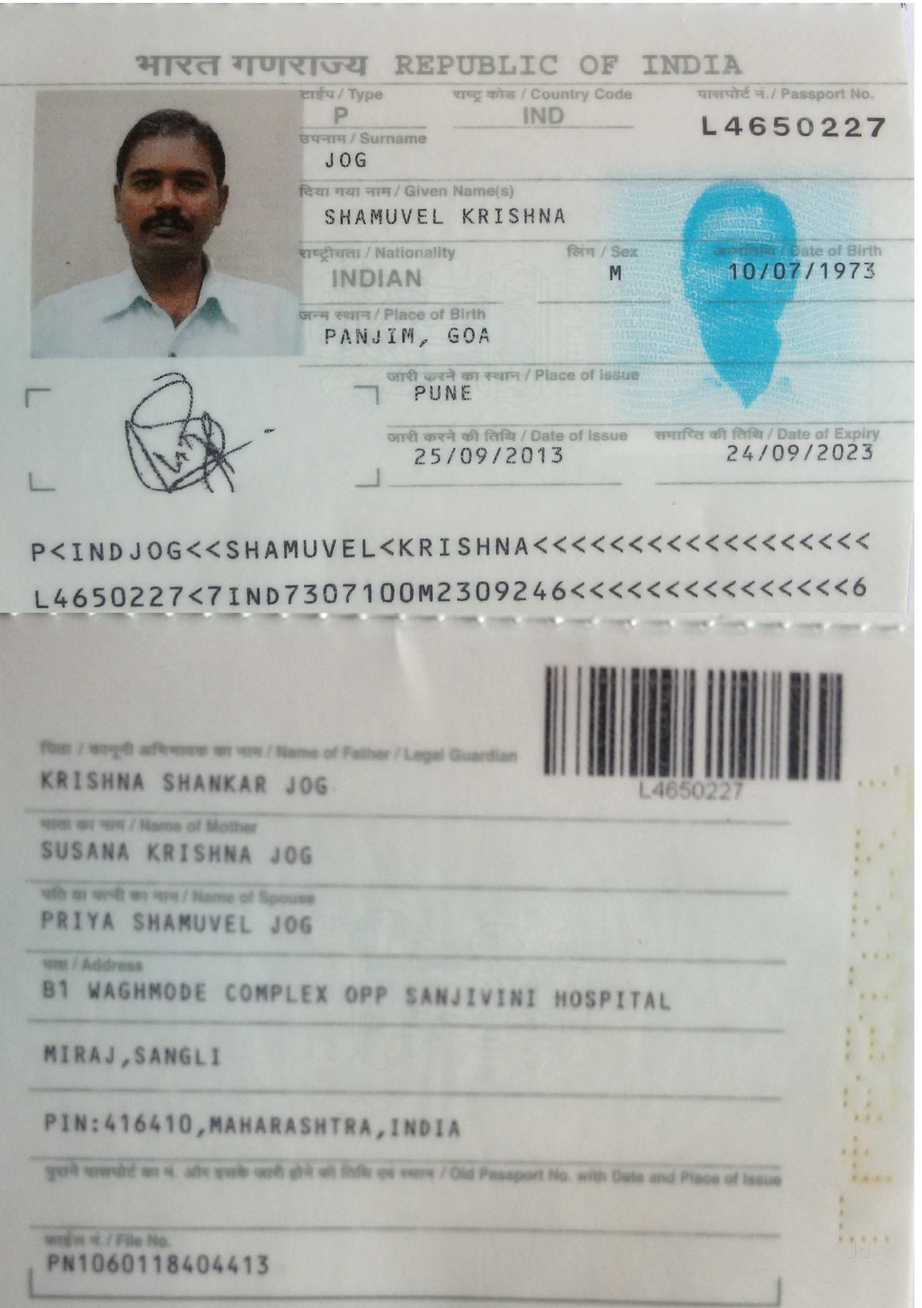File_no: (42, 1250, 289, 1296)
Surname: (318, 145, 376, 175)
address: (22, 972, 681, 1151)
country_code: (513, 99, 572, 131)
date_of_expiry: (718, 435, 891, 465)
date_of_issue: (411, 442, 579, 477)
details: (19, 527, 877, 614)
father_name: (30, 759, 334, 806)
mother_name: (17, 832, 324, 877)
name: (309, 203, 565, 239)
nationality: (315, 261, 434, 294)
passport_no: (694, 104, 891, 155), (628, 774, 759, 815)
photo: (34, 91, 304, 360)
place_of_birth: (316, 321, 495, 355)
place_of_issue: (406, 379, 478, 415)
sex: (598, 254, 630, 283)
sign: (98, 361, 280, 489), (719, 254, 883, 289)
spouse_name: (30, 905, 324, 942)
type: (325, 97, 357, 132)
